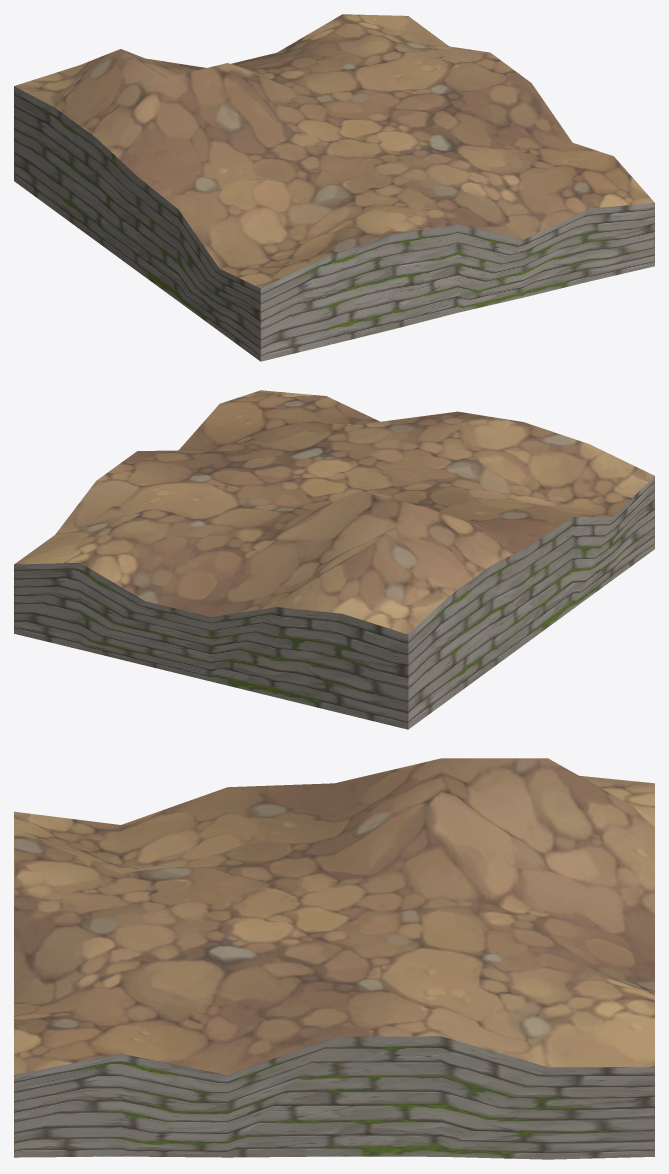
Rendered from wood_boxel01.fbx.
3 views of the same model, one above another, from view 1: azimuth 30°, elevation 25°; view 2: azimuth 150°, elevation 25°; view 3: azimuth 270°, elevation 25° (orthographic). The views are drawn at different scales.
Parts seen in each view (by area): view 1: wood_boxel01; view 2: wood_boxel01; view 3: wood_boxel01.
Part boxes in pixels (box(x1,y1,x2,y2)): wood_boxel01: box(14, 14, 654, 361); wood_boxel01: box(14, 390, 654, 729); wood_boxel01: box(14, 758, 654, 1159).
Bounding box in the file's own units: 89.56 × 32.27 × 97.1.
Materials: 1 (1 with a texture image).
